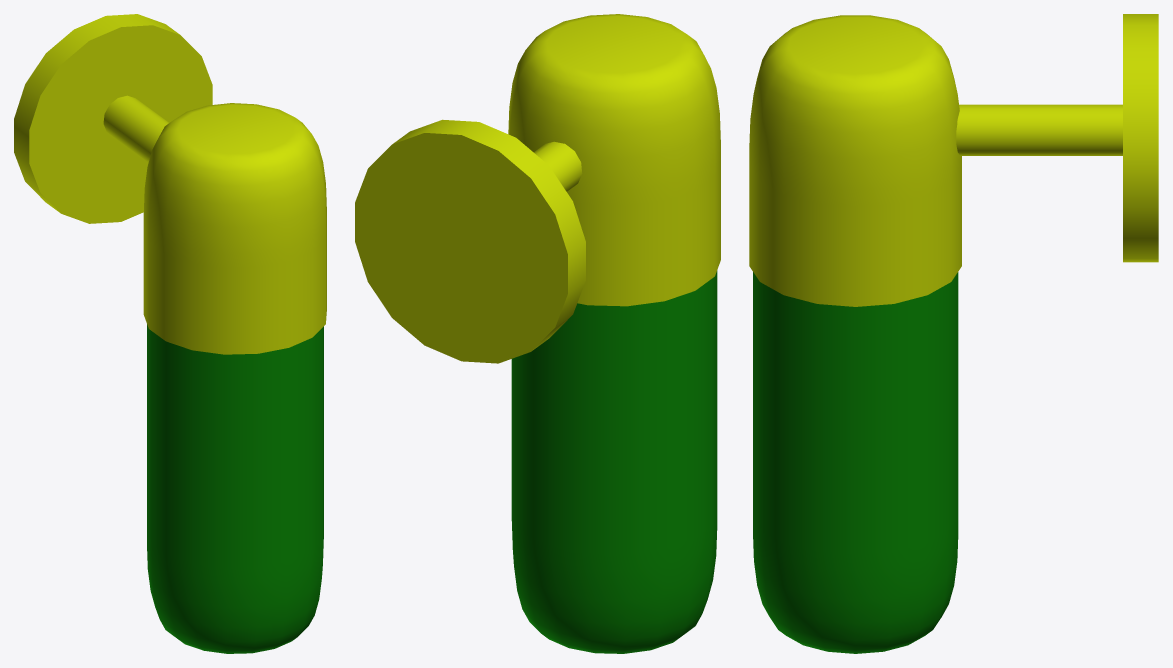
Rendered from lamp_3.FBX.
The picture shows the model from 3 angles, left to right: view 1: azimuth 30°, elevation 25°; view 2: azimuth 150°, elevation 25°; view 3: azimuth 270°, elevation 25°; orthographic projection. The views are drawn at different scales.
Parts seen in each view (by area): view 1: Lamp_3; view 2: Lamp_3; view 3: Lamp_3.
Part boxes in pixels (x1,y1,x2,y2): Lamp_3: (14, 14, 326, 653); Lamp_3: (355, 14, 720, 653); Lamp_3: (749, 14, 1158, 653).
Bounding box in the file's own units: 2.71 × 7.3 × 4.53.
